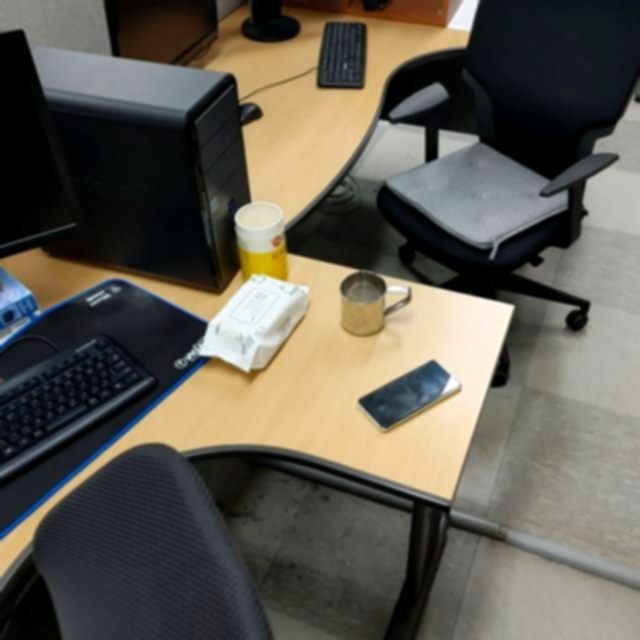cup: (338, 271, 412, 338)
phone: (353, 358, 460, 433)
